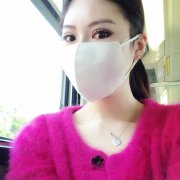face_mask: (60, 1, 131, 103)
